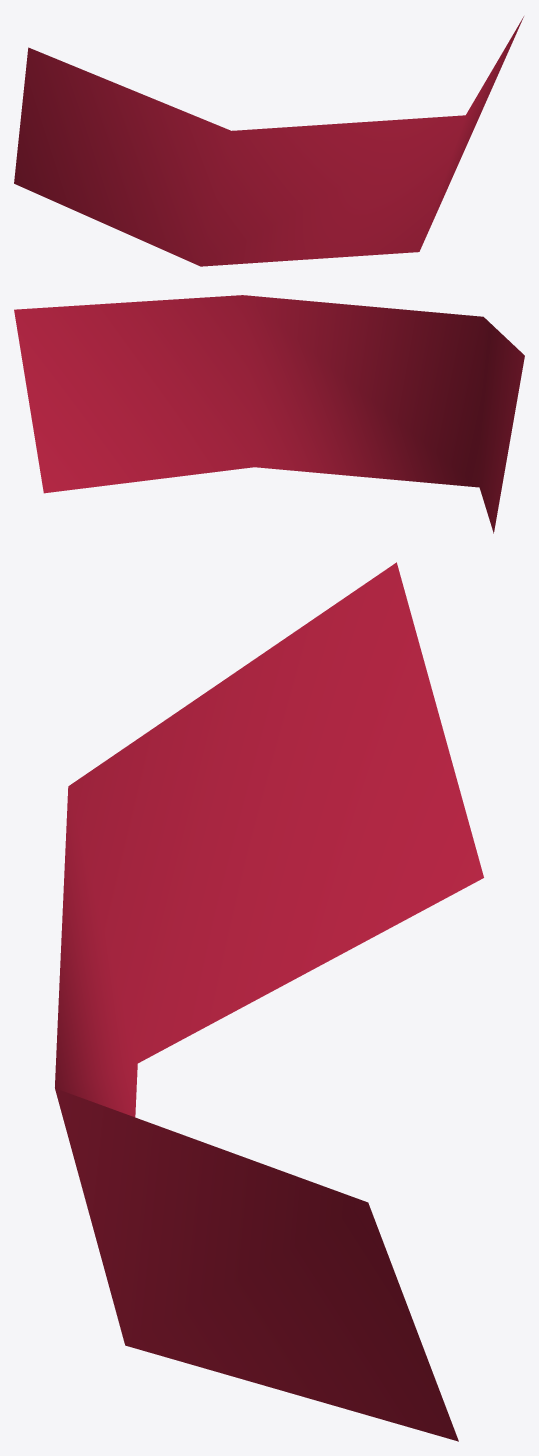
The picture shows the model from 3 angles, top to bottom: view 1: azimuth 30°, elevation 25°; view 2: azimuth 150°, elevation 25°; view 3: azimuth 270°, elevation 25°; orthographic projection. The views are drawn at different scales.
Parts seen in each view (by area): view 1: ef_439; view 2: ef_439; view 3: ef_439.
Part boxes in pixels (x1,y1,x2,y2): ef_439: (14,16,523,266); ef_439: (14,295,524,533); ef_439: (55,562,483,1441).
Size of the model in its own units: 0.982 by 0.4483 by 0.3729.
Materials: 1 (1 with a texture image).
